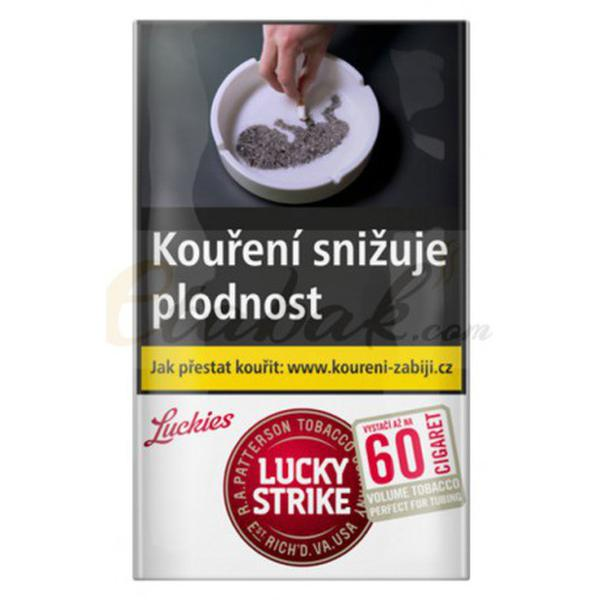lucky_strike_red: (138, 22, 468, 579)
